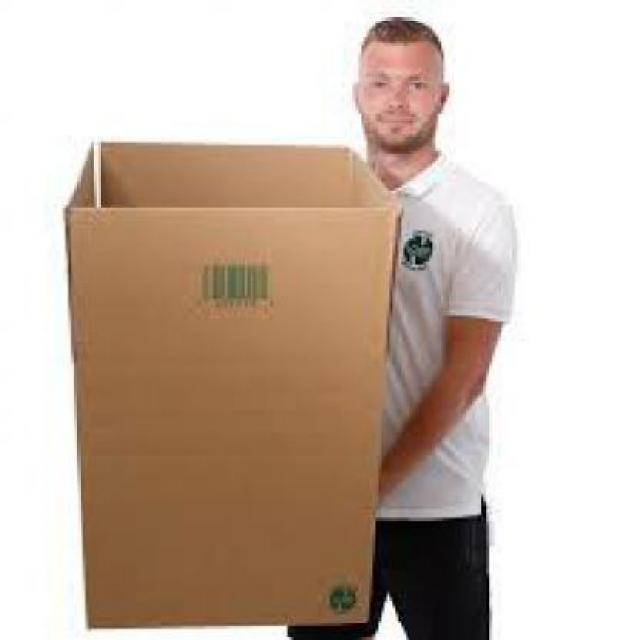box: (54, 133, 408, 638)
